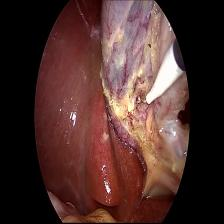Hook: (136, 46, 184, 110)
